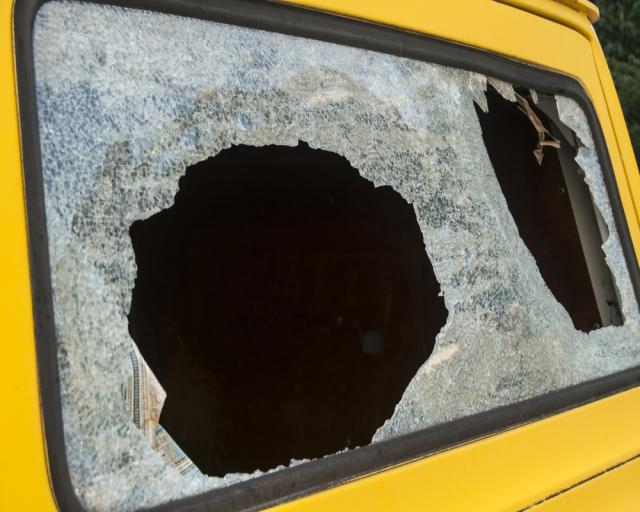glass shatter: (30, 0, 640, 512)
